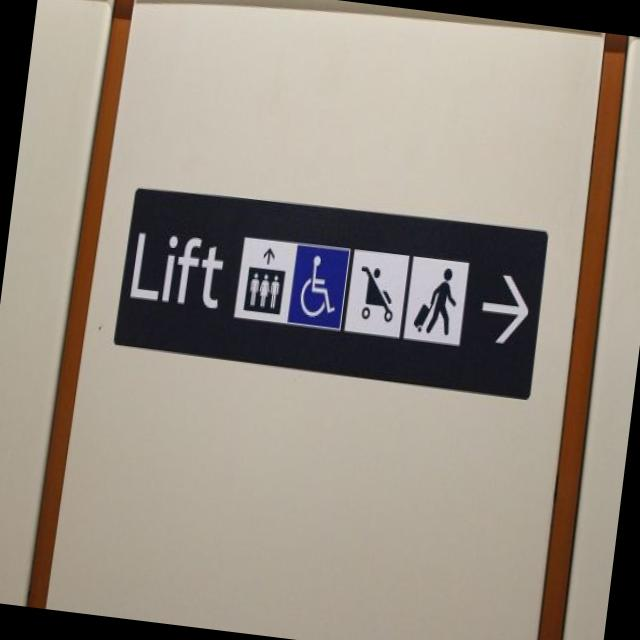lift_icon: (238, 239, 346, 330)
